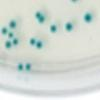Blue_green: (63, 21, 74, 34), (7, 19, 18, 30), (47, 23, 57, 34), (23, 59, 32, 71), (34, 39, 43, 50), (84, 12, 93, 23), (0, 26, 9, 36), (16, 62, 25, 72), (12, 36, 19, 47), (29, 36, 36, 47), (34, 10, 41, 21), (37, 15, 45, 24), (5, 39, 12, 49), (7, 31, 15, 39)
